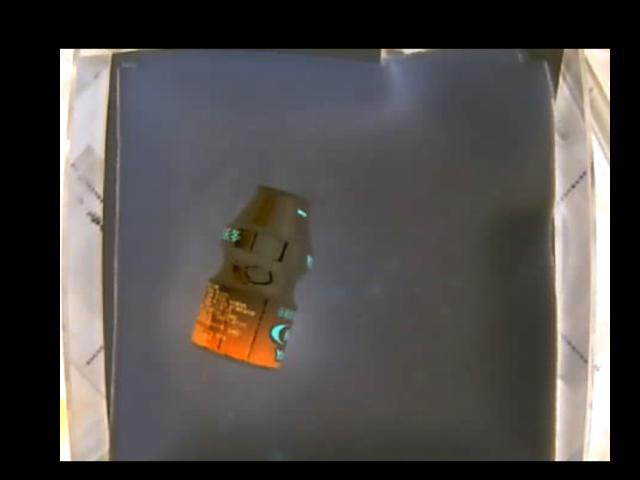Bottle: (193, 183, 313, 371)
